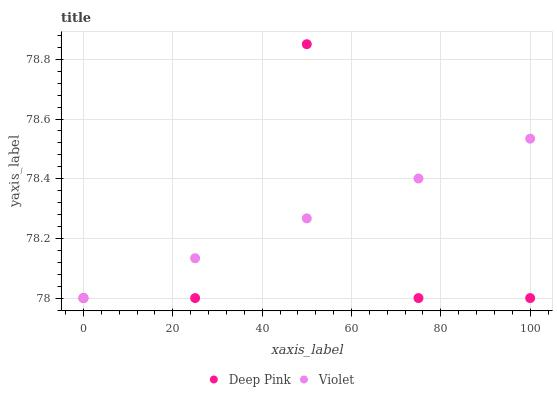axis: (68, 307, 554, 318), (54, 32, 68, 310)
legend: (202, 367, 369, 392)
point: (410, 293, 426, 305), (187, 292, 204, 303), (79, 291, 91, 306), (524, 293, 537, 305), (302, 38, 313, 51), (303, 213, 315, 224), (525, 132, 537, 143), (191, 251, 201, 263), (412, 172, 423, 182)
